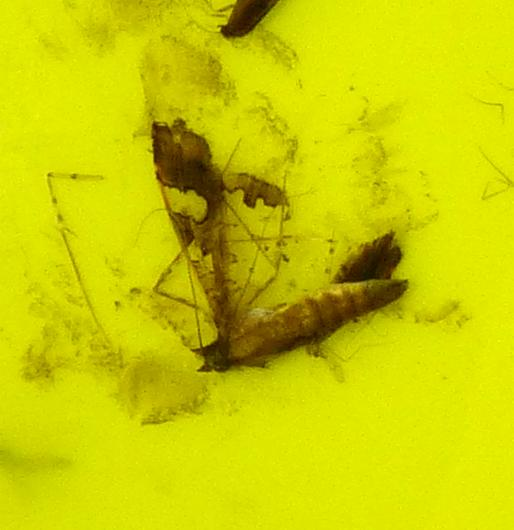Lepidoptera: (100, 100, 414, 430)
